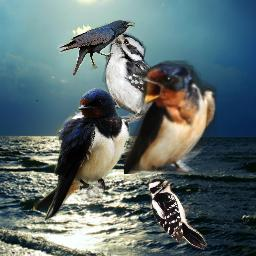Crow: (57, 20, 135, 77)
Swallow: (33, 87, 130, 224), (124, 60, 217, 174)
Woodpecker: (97, 24, 200, 127), (148, 178, 207, 251)
